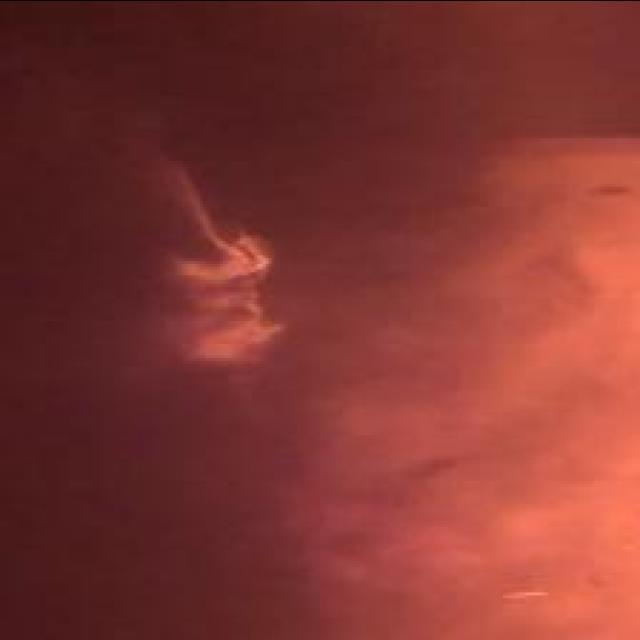Fire: (168, 150, 288, 364)
